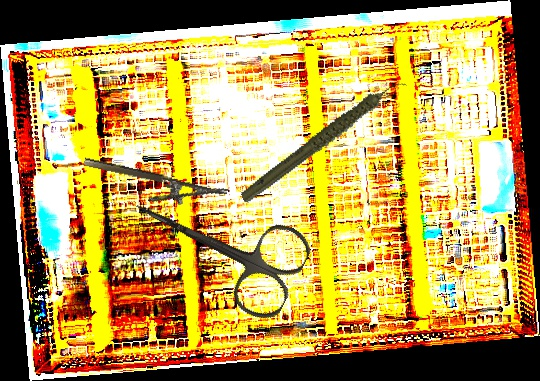Handpiece: (223, 77, 426, 206)
Iris Scissors: (115, 160, 317, 328)
Needle Holder: (79, 156, 228, 218)
